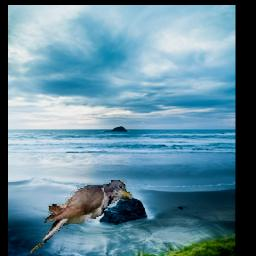Cuckoo: (28, 181, 132, 256)
